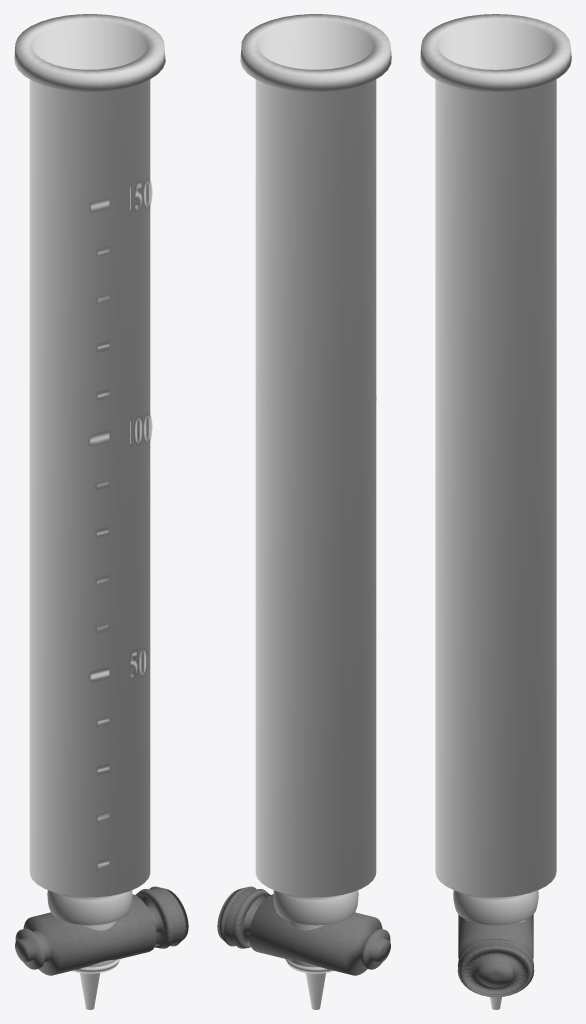
The model's file is burette.glb.
3 views of the same model, side by side, from view 1: azimuth 30°, elevation 25°; view 2: azimuth 150°, elevation 25°; view 3: azimuth 270°, elevation 25° (orthographic).
Visible parts, largest first — view 1: Circle_0, Cylinder_1, 0-Photoroom-removebg-preview_2; view 2: Circle_0, Cylinder_1; view 3: Circle_0, Cylinder_1.
Part boxes in pixels (<box>): Circle_0: <box>14,14,165,1009</box>; Cylinder_1: <box>15,886,188,975</box>; 0-Photoroom-removebg-preview_2: <box>89,179,151,869</box>; Circle_0: <box>240,14,391,1009</box>; Cylinder_1: <box>217,886,390,975</box>; Circle_0: <box>420,14,571,1009</box>; Cylinder_1: <box>457,914,534,997</box>.
Size of the model in its own units: 1.4 by 8.45 by 1.21.
Materials: 3 (2 with a texture image).
